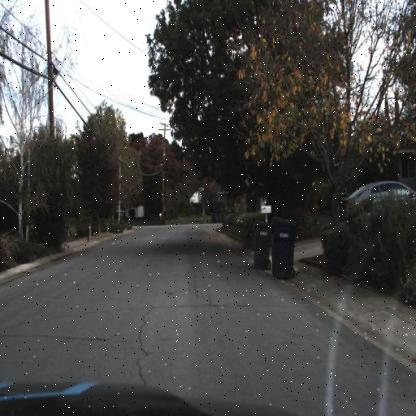car: (339, 180, 415, 216)
